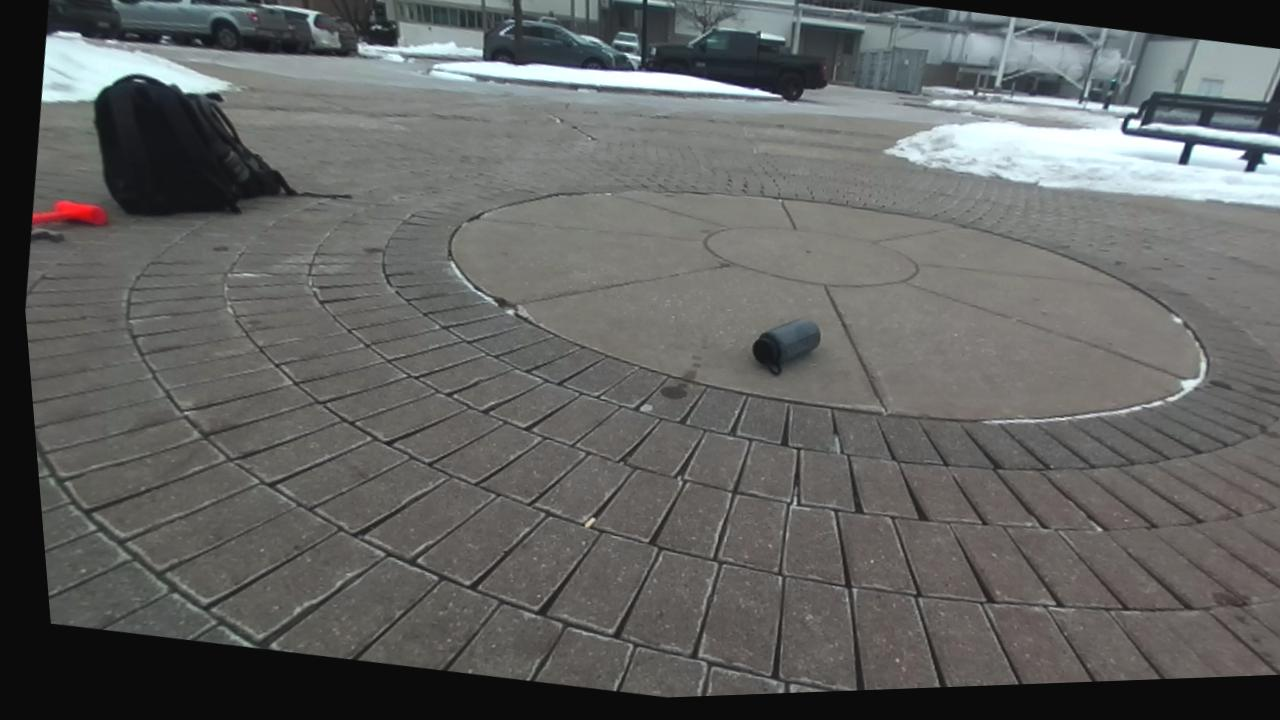bottle: (753, 319, 820, 374)
mallet: (32, 201, 107, 224)
